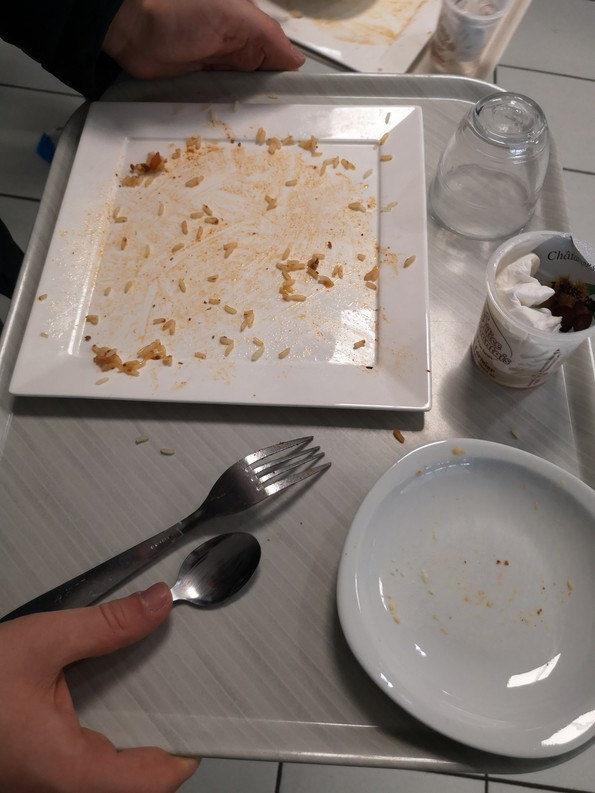cup: (419, 86, 567, 255)
cutlery: (1, 430, 338, 649)
trash: (468, 230, 595, 397)
